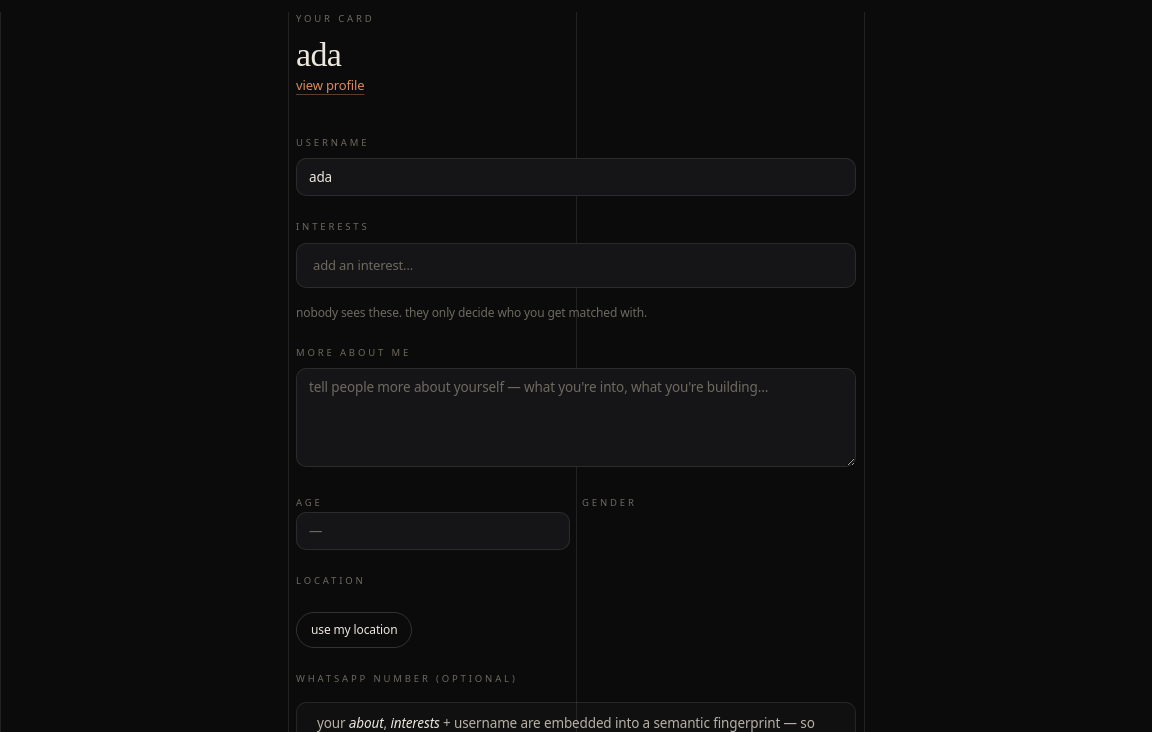
Test: profile autosave › restarts the wait on every keystroke, so it saves once, not per letter
Replace the text in the field labelled "username" with "ad" at (576, 177), box 296,158 -> 856,196
Wait 2159 ms
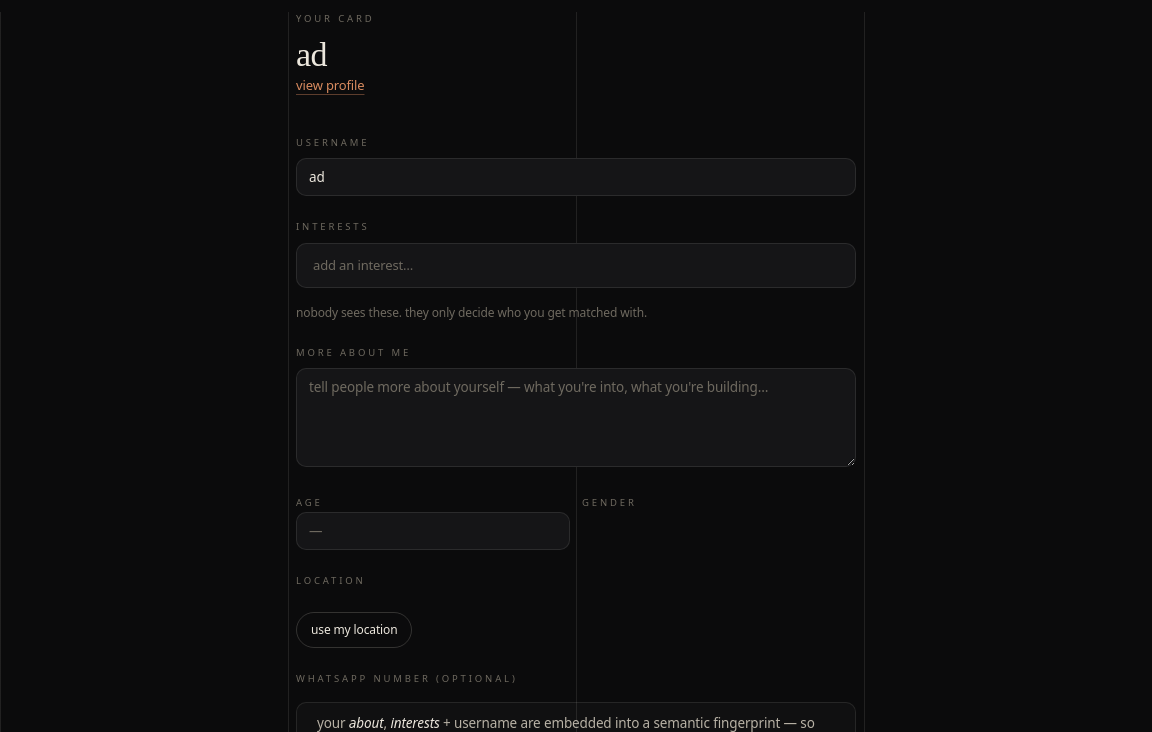
Replace the text in the field labelled "username" with "ada" at (576, 177), box 296,158 -> 856,196
Wait 2161 ms
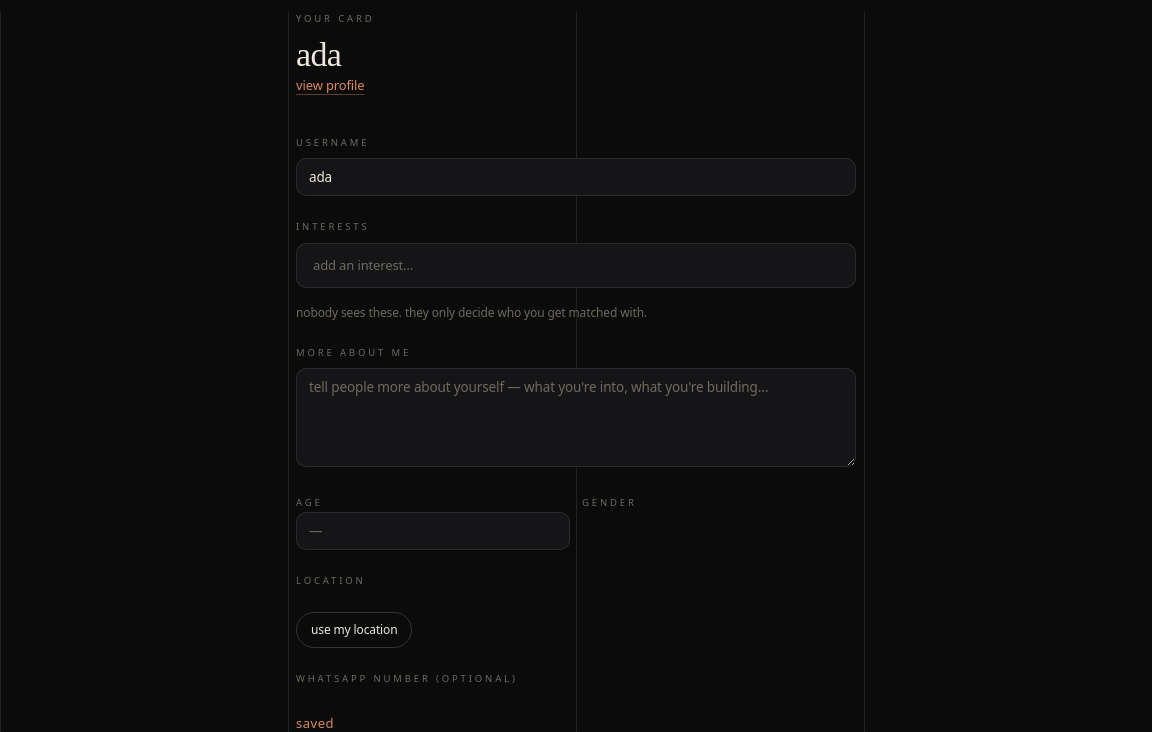
Result: the text "ada" is shown at 296,36 -> 341,73
